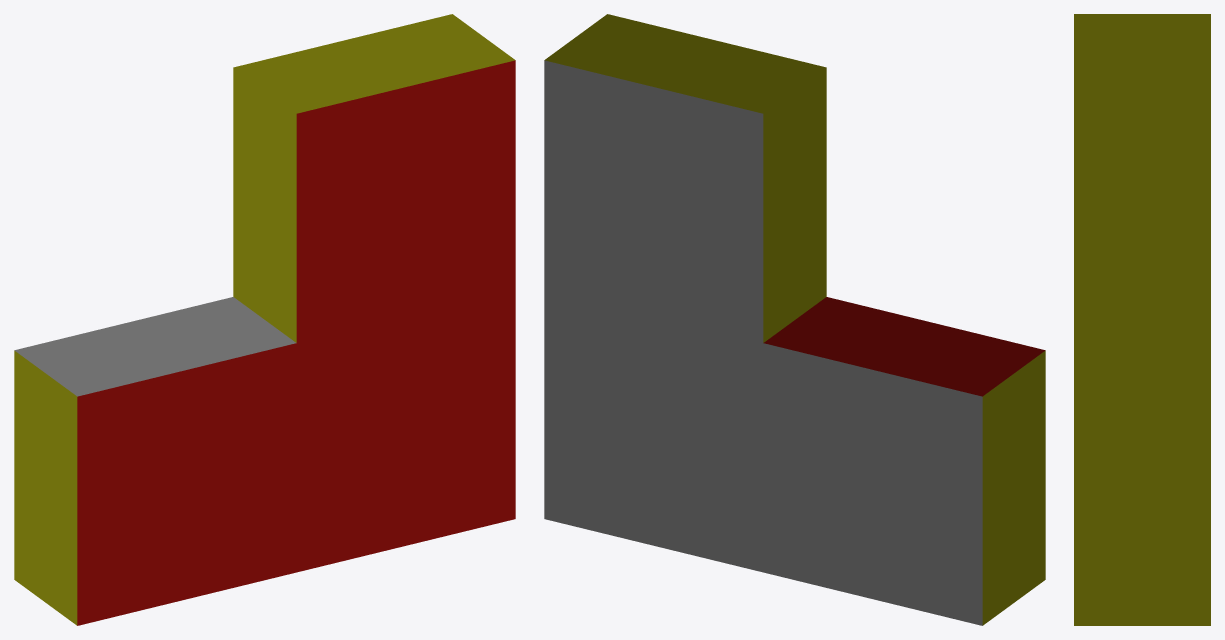
File: idf.obj
3 views of the same model, side by side, from view 1: azimuth 30°, elevation 25°; view 2: azimuth 150°, elevation 25°; view 3: azimuth 270°, elevation 25° (orthographic). The views are drawn at different scales.
Size of the model in its own units: 12.19 by 12.19 by 3.05.
